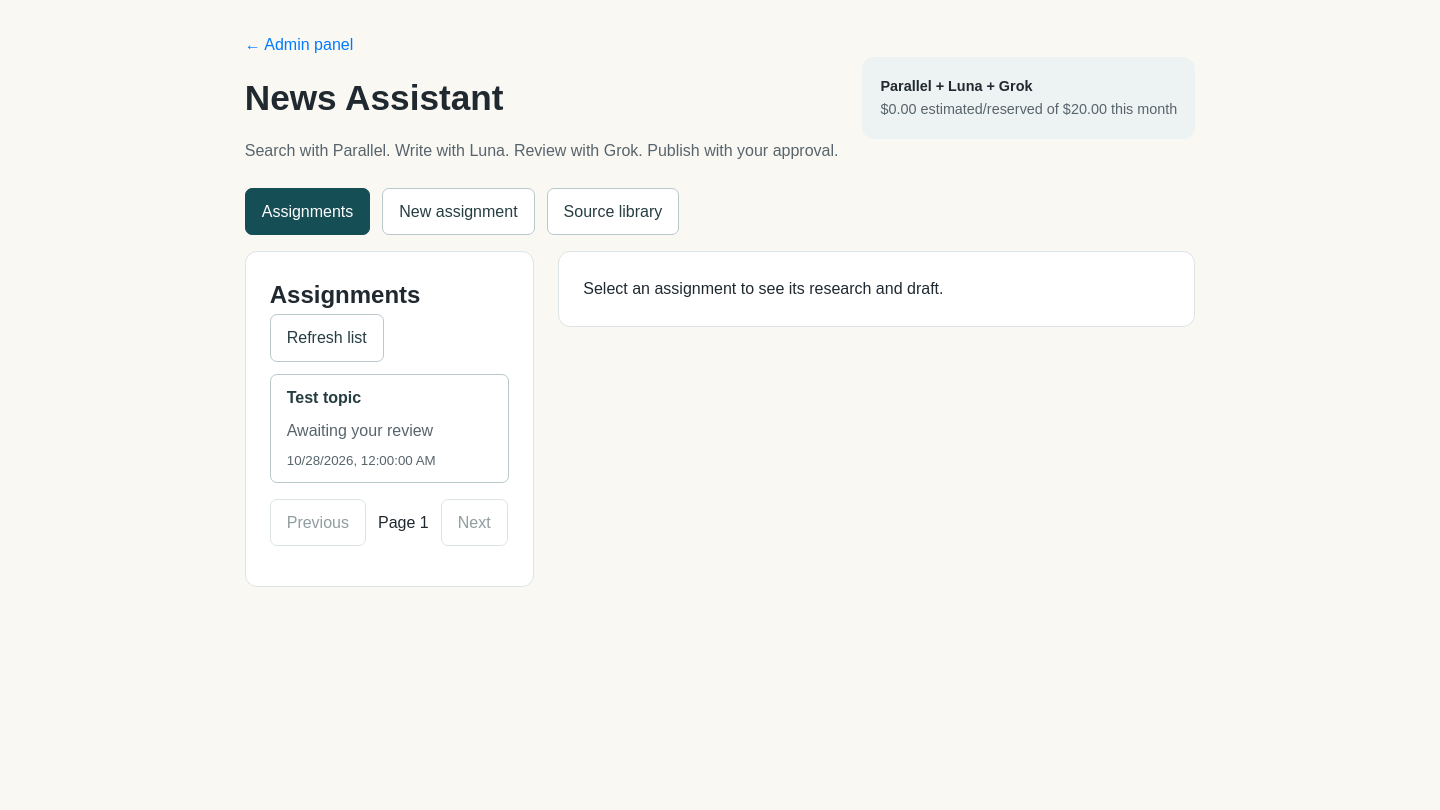
Test: Parallel usage displays search requests without invented token usage
Click the button "Test topic Awaiting your review 10/28/2026, 12:00:00 AM" at (389, 428), box [270,374,509,483]
(page scrolled)
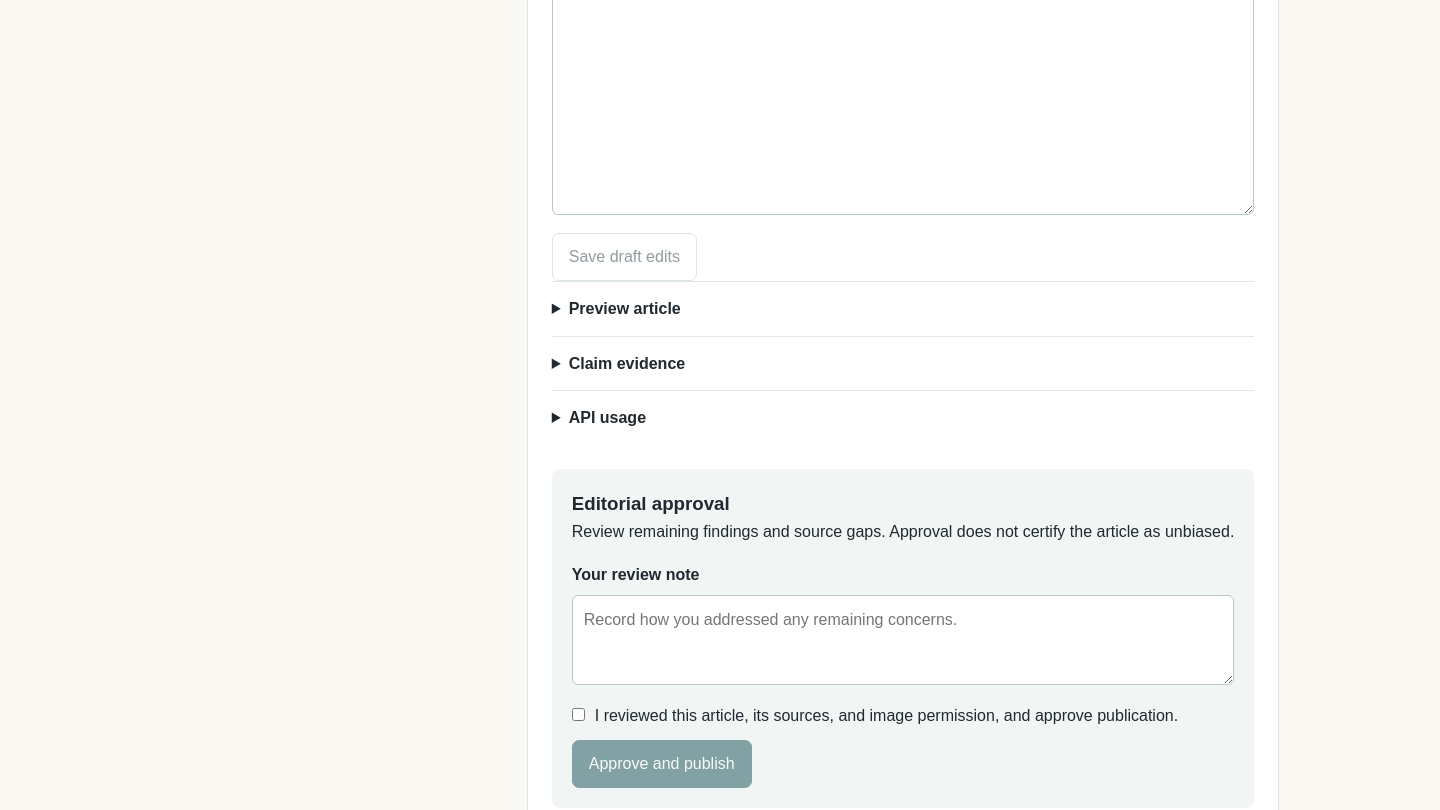
Expected: the heading "API usage" is shown, [569,409,646,426]
